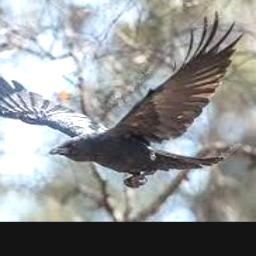Crow: (0, 11, 243, 188)
